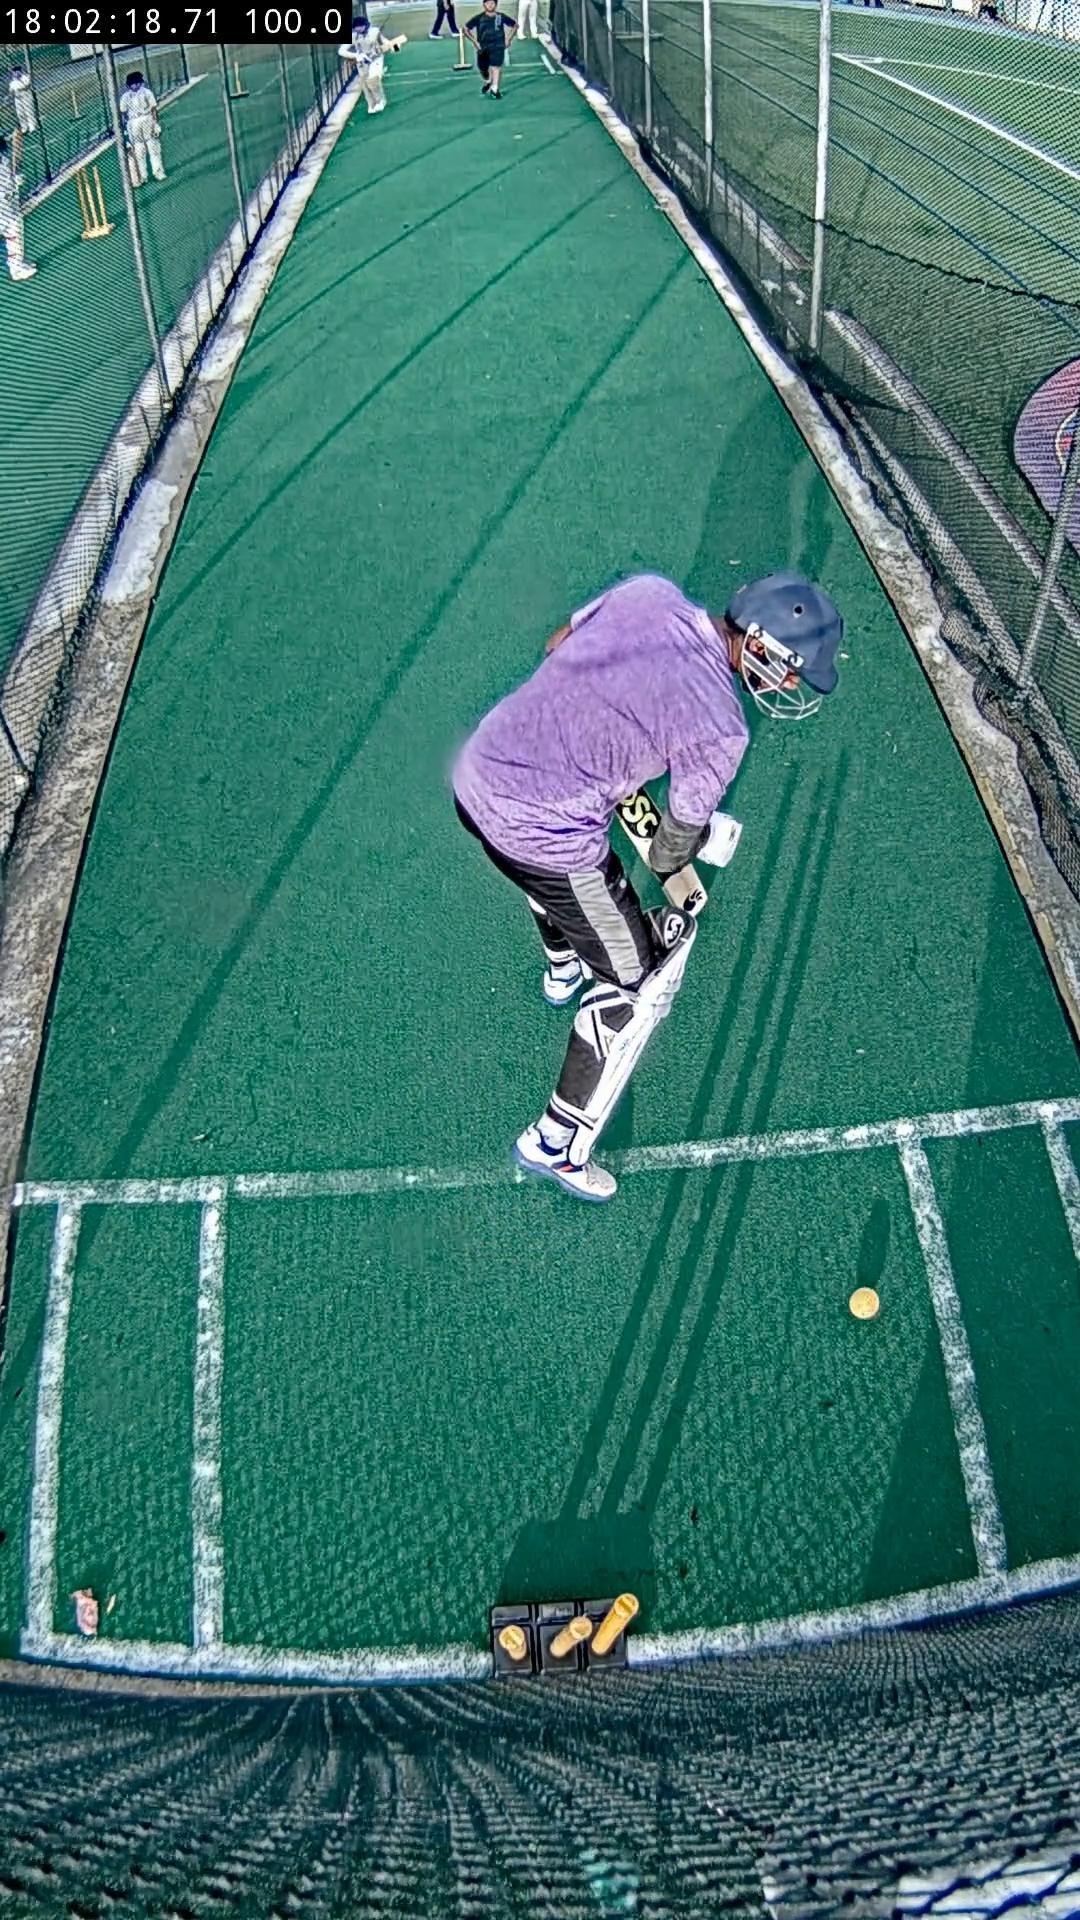ball: (848, 1286, 881, 1320)
bat: (615, 787, 663, 862), (658, 866, 708, 916)
gloves: (698, 810, 742, 866)
helmet: (728, 574, 844, 694)
pads: (555, 907, 698, 1166)
stumps: (492, 1594, 641, 1680)
